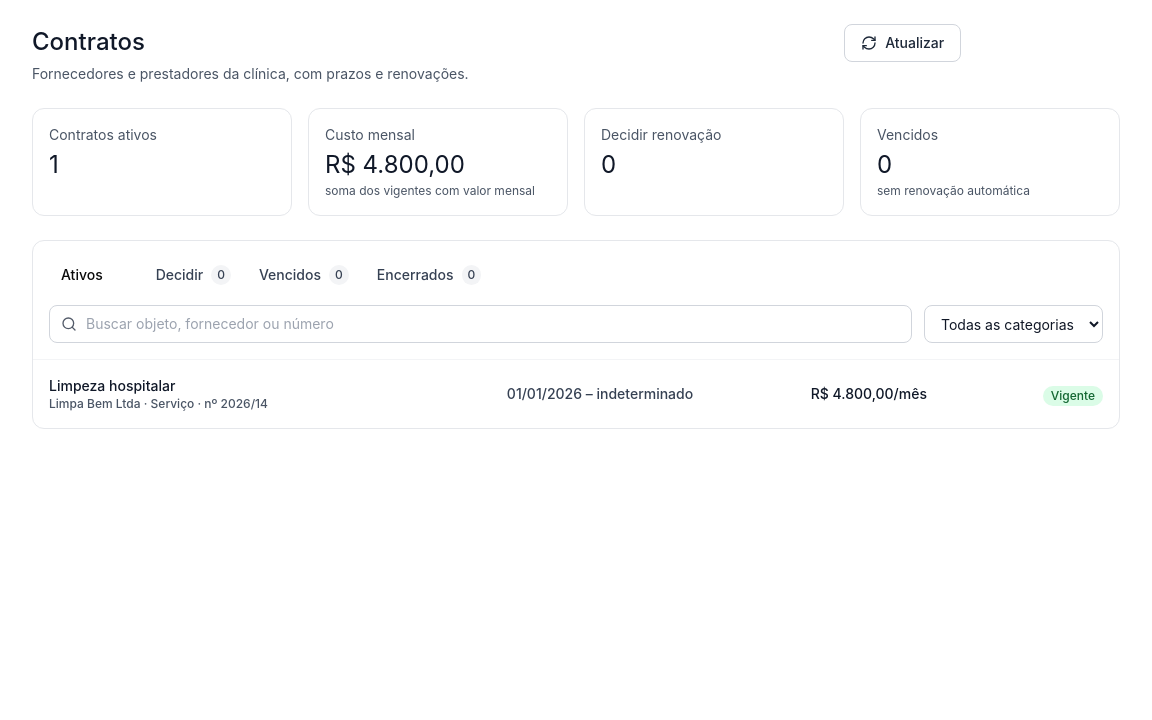
Test case: Contratos: encerrar › a API recusar: mostra o motivo na janela e não busca de novo
The image size is (1152, 720).
Click the button "Limpeza hospitalar".
click(576, 394)  # box top-left (33, 360), bottom-right (1119, 428)
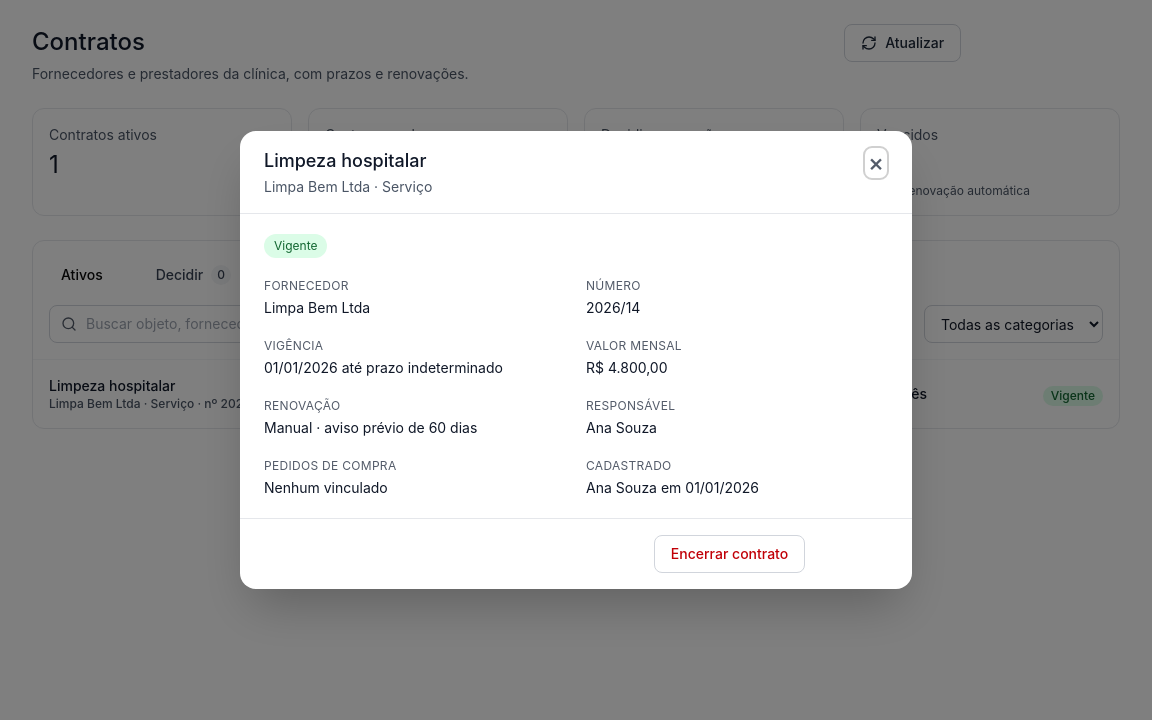
Click the button "Encerrar contrato".
click(729, 554)  # box top-left (654, 535), bottom-right (805, 573)
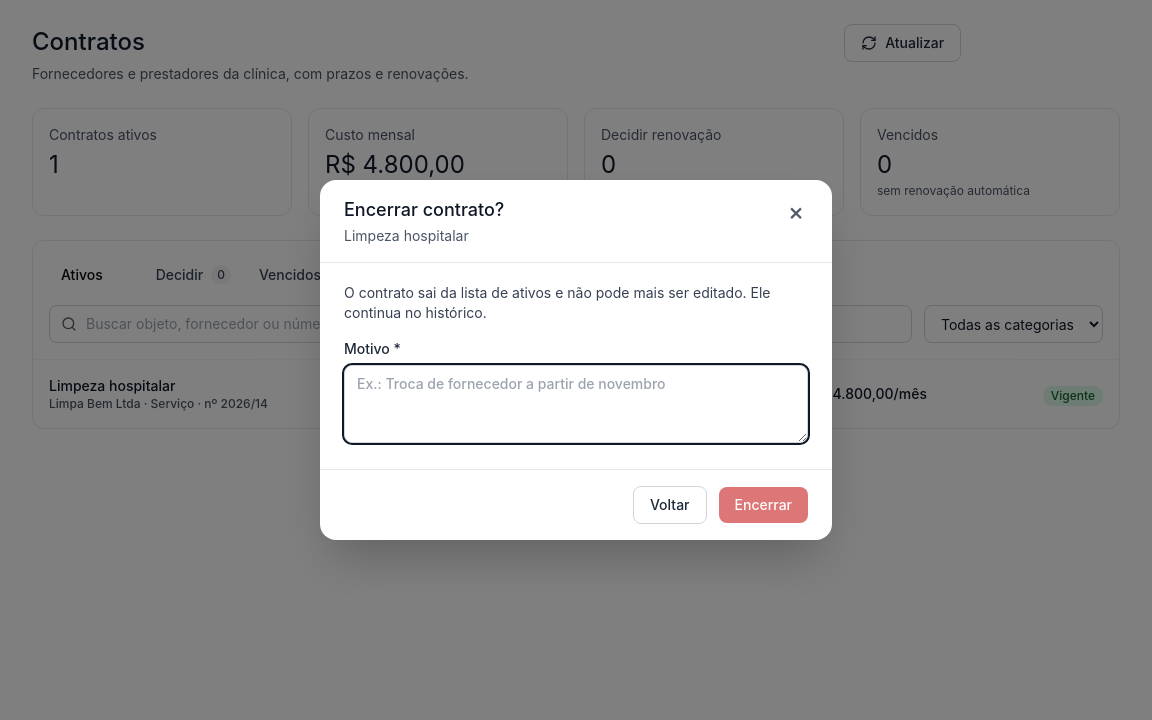
Type "Troca de fornecedor" into the text box labelled "Motivo *".
click(576, 404); type("Troca de fornecedor")  # box top-left (344, 365), bottom-right (808, 443)
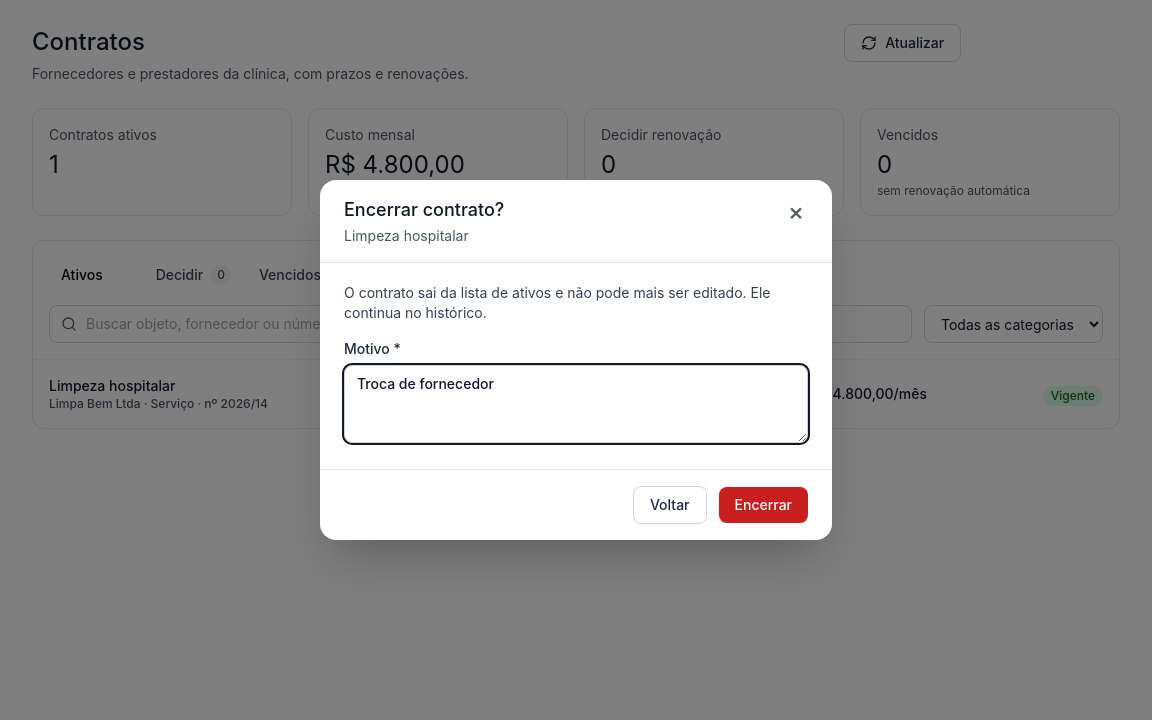
Click the button "Encerrar".
click(763, 505)  # box top-left (718, 487), bottom-right (808, 523)
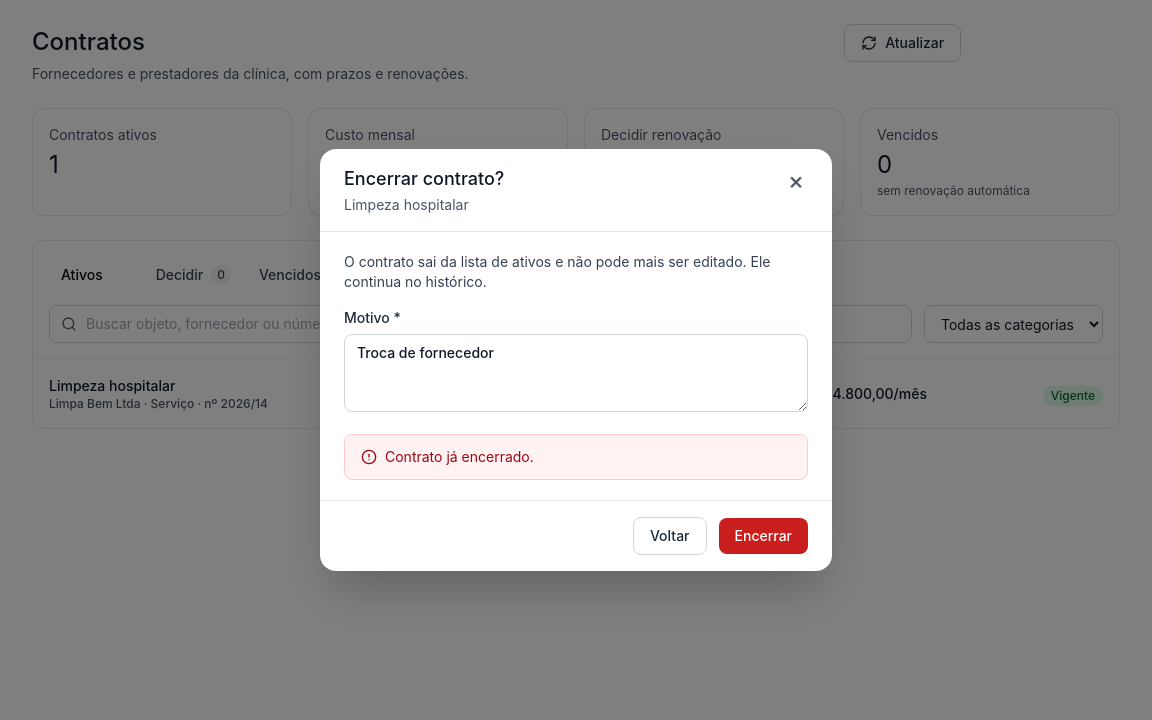
Result: the text "Contrato já encerrado." is shown at top-left (385, 447), bottom-right (534, 467)
